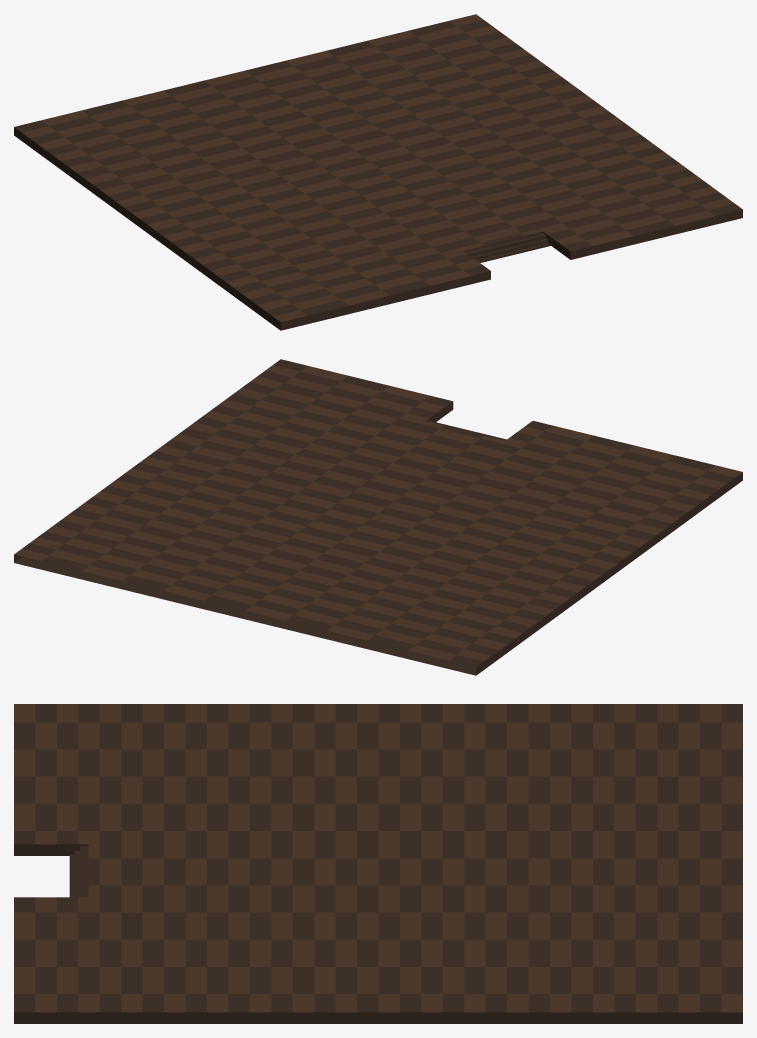
Rendered from Lantai Renov.fbx.
The picture shows the model from 3 angles, top to bottom: view 1: azimuth 30°, elevation 25°; view 2: azimuth 150°, elevation 25°; view 3: azimuth 270°, elevation 25°; orthographic projection. The views are drawn at different scales.
Visible parts, largest first — view 1: lantai real renov; view 2: lantai real renov; view 3: lantai real renov.
Boxes of the visible parts, x1,y1,x2,y2 form: lantai real renov: (14, 14, 742, 330); lantai real renov: (14, 359, 742, 675); lantai real renov: (14, 704, 742, 1023).
Size of the model in its own units: 5800 by 114 by 5800.
